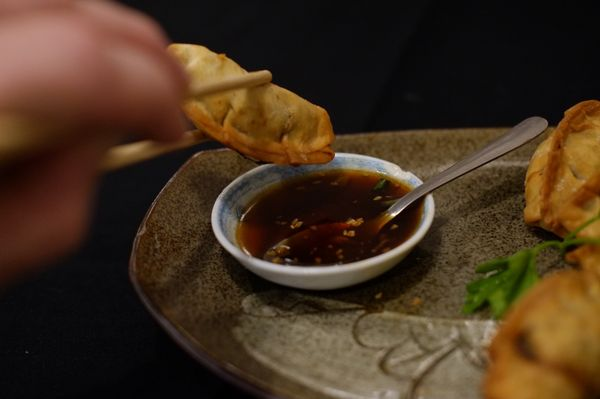pasta: (166, 42, 334, 167)
salad: (288, 114, 548, 270)
soup: (523, 99, 600, 246)
sushi: (211, 131, 522, 291), (211, 160, 437, 292)
